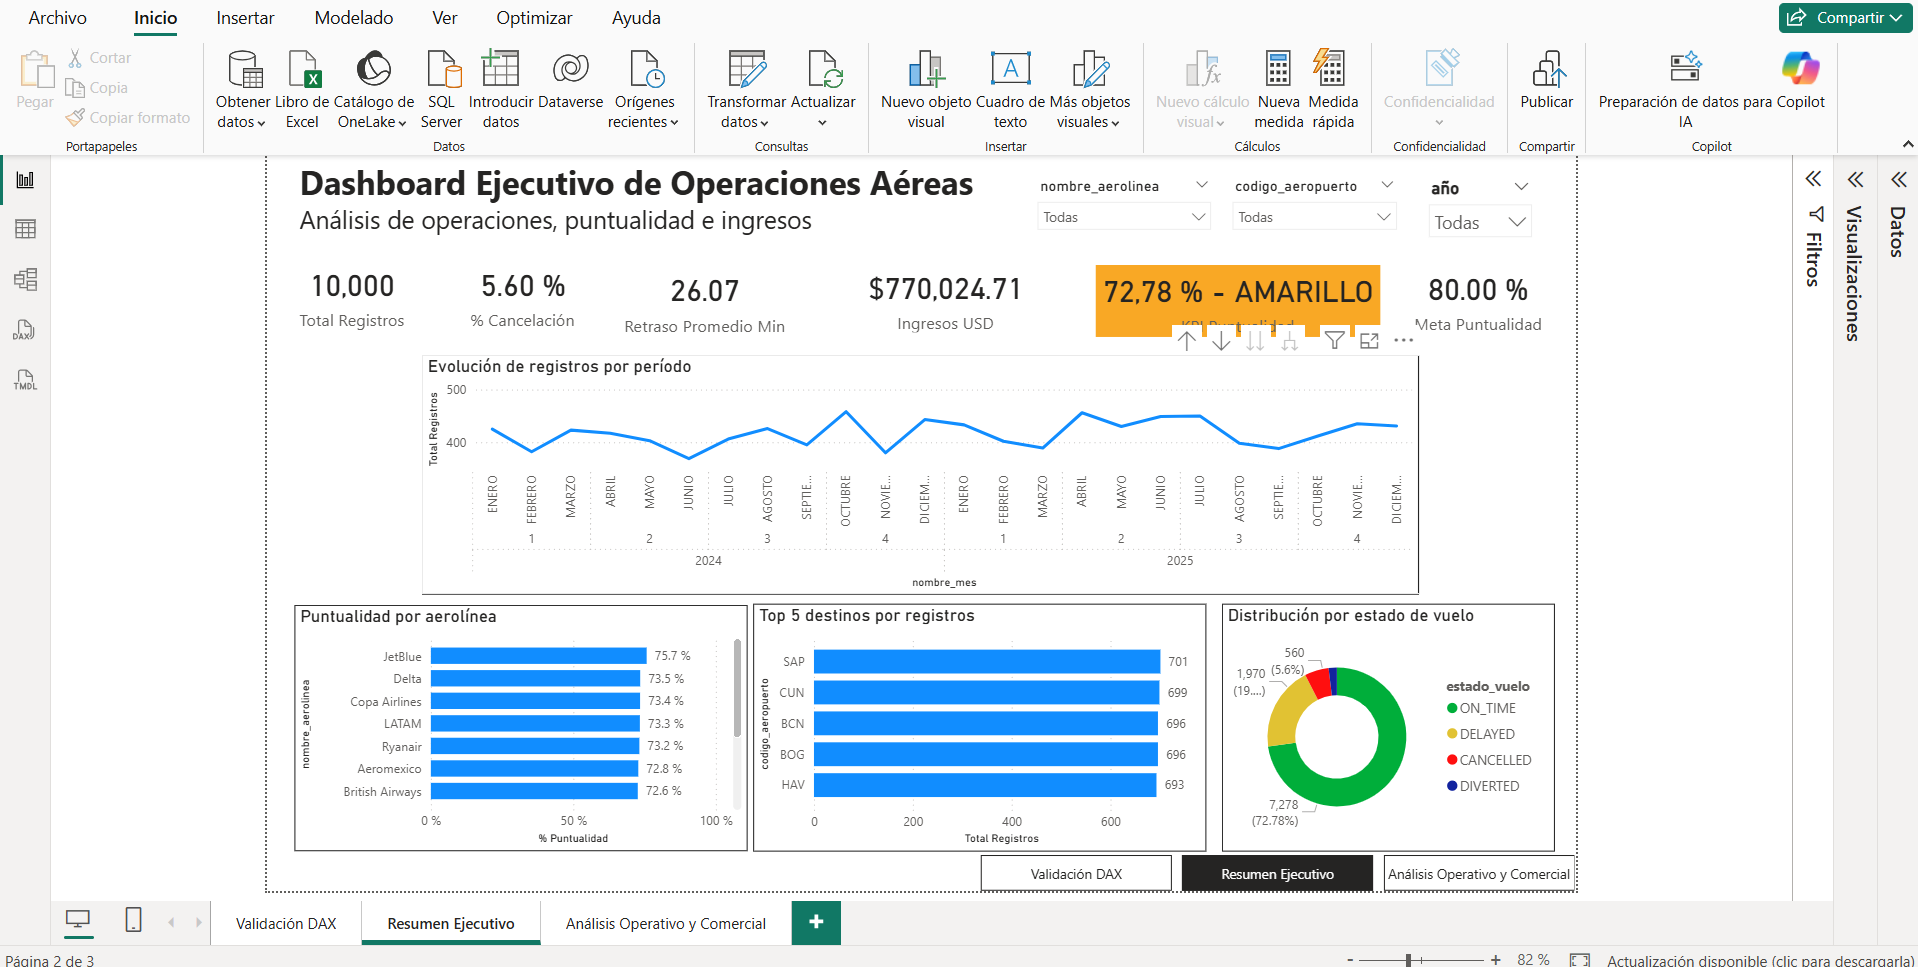

The page's visual inventory and layout, read from the dashboard file:
{"tool":"powerbi","page":{"name":"Resumen Ejecutivo","canvas":[1280,720],"ordinal":1},"visuals":[{"type":"textbox","box":[26.7,0,671.6,95.9],"z":0},{"type":"card","fields":{"Values":["00 Medidas.Total Registros"]},"box":[21.6,98.3,122.7,78.6],"z":1000},{"type":"card","fields":{"Values":["00 Medidas.Ingresos USD"]},"box":[556.4,101.5,215.5,77.1],"z":2000},{"type":"card","fields":{"Values":["00 Medidas.% Cancelación"]},"box":[169.5,98.3,160.4,78.6],"z":3000},{"type":"card","fields":{"Values":["00 Medidas.Retraso Promedio Min"]},"box":[329.9,104.6,196.6,73.9],"z":4000},{"type":"card","fields":{"Values":["00 Medidas.KPI Puntualidad"]},"box":[811.2,107.8,278.4,70.8],"z":5000},{"type":"card","fields":{"Values":["00 Medidas.Meta Puntualidad"]},"box":[1110.1,101.5,149.4,78.6],"z":6000},{"type":"lineChart","title":"Evolución de registros por período","fields":{"Category":["dw DimFechaSalida.Jerarquía Fecha Salida.anio","dw DimFechaSalida.Jerarquía Fecha Salida.trimestre","dw DimFechaSalida.Jerarquía Fecha Salida.nombre_mes"],"Y":["00 Medidas.Total Registros"]},"box":[152.2,195.3,975.2,234.4],"z":7000},{"type":"slicer","fields":{"Values":["dw DimFechaSalida.anio"]},"box":[1126.2,17.3,121.1,73.9],"z":8000},{"type":"barChart","title":"Puntualidad por aerolínea","fields":{"Category":["dw DimAerolinea.nombre_aerolinea"],"Y":["00 Medidas.% Puntualidad"]},"box":[26.3,440.7,443.6,240.6],"z":9000},{"type":"barChart","title":"Top 5 destinos por registros","fields":{"Category":["dw DimAeropuertoDestino.codigo_aeropuerto"],"Y":["00 Medidas.Total Registros"]},"box":[476.2,439.1,443.6,242.2],"z":10000},{"type":"donutChart","title":"Distribución por estado de vuelo","fields":{"Category":["dw DimEstadoVuelo.estado_vuelo"],"Y":["00 Medidas.Total Registros"]},"box":[933.9,439.1,325.6,242.2],"z":11000},{"type":"slicer","fields":{"Values":["dw DimAerolinea.nombre_aerolinea"]},"box":[744,17.3,190.3,78.6],"z":12000},{"type":"slicer","fields":{"Values":["dw DimAeropuertoDestino.codigo_aeropuerto"]},"box":[934.3,17.3,180.9,73.9],"z":13000},{"type":"pageNavigator","box":[698.8,684.9,581.2,35.1],"z":13001}]}

Visuals, with their boxes on the page's 1280x720 design canvas (x1, y1, x2, y2). These are canvas units, not pixel positions in the 1918x967 screenshot, which may show the page scaled, cropped or inside an application window:
textbox: (27, 0, 698, 96)
card - 00 Medidas.Total Registros: (22, 98, 144, 177)
card - 00 Medidas.Ingresos USD: (556, 102, 772, 179)
card - 00 Medidas.% Cancelación: (170, 98, 330, 177)
card - 00 Medidas.Retraso Promedio Min: (330, 105, 526, 178)
card - 00 Medidas.KPI Puntualidad: (811, 108, 1090, 179)
card - 00 Medidas.Meta Puntualidad: (1110, 102, 1260, 180)
"Evolución de registros por período" lineChart: (152, 195, 1127, 430)
slicer - dw DimFechaSalida.anio: (1126, 17, 1247, 91)
"Puntualidad por aerolínea" barChart: (26, 441, 470, 681)
"Top 5 destinos por registros" barChart: (476, 439, 920, 681)
"Distribución por estado de vuelo" donutChart: (934, 439, 1260, 681)
slicer - dw DimAerolinea.nombre_aerolinea: (744, 17, 934, 96)
slicer - dw DimAeropuertoDestino.codigo_aeropuerto: (934, 17, 1115, 91)
pageNavigator: (699, 685, 1280, 720)
